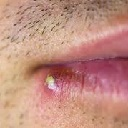Cold Sore: (44, 69, 65, 96)
